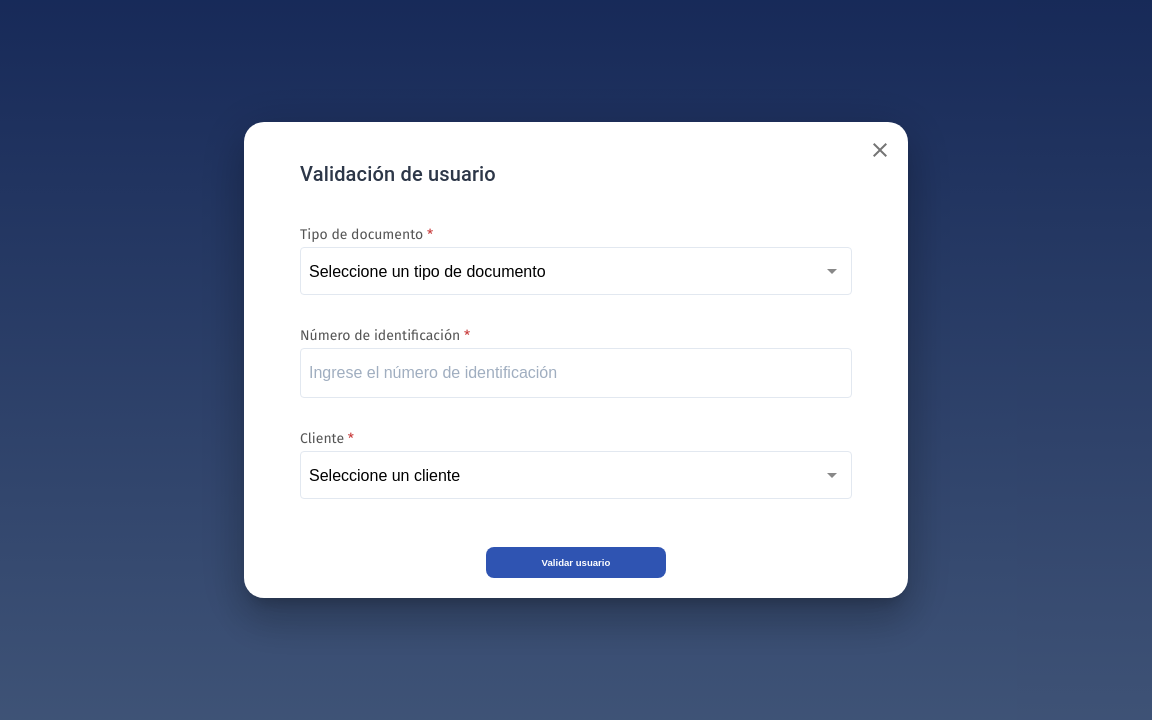
it: ValidateUserModal › shows empty fields alert when fields are not filled
Click the button "Validar usuario". click: (576, 562)
box: [486,547,666,578]
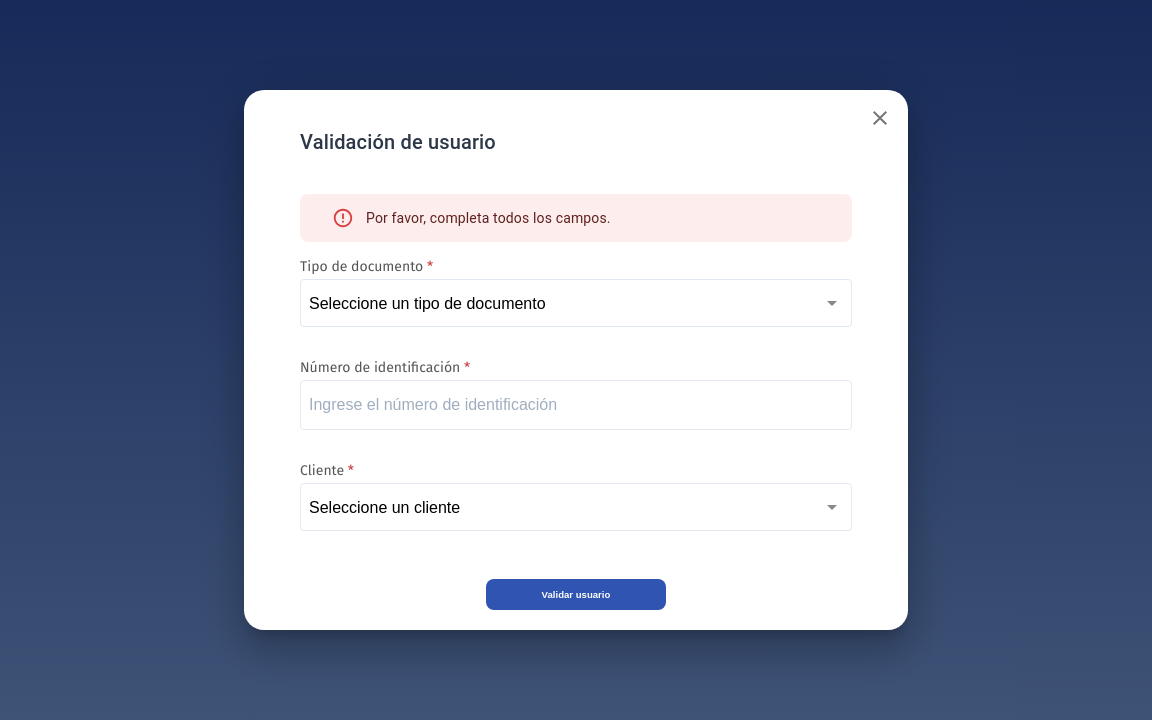
Check: the text "Por favor, completa todos los campos." is shown, box [366,210,611,226]
